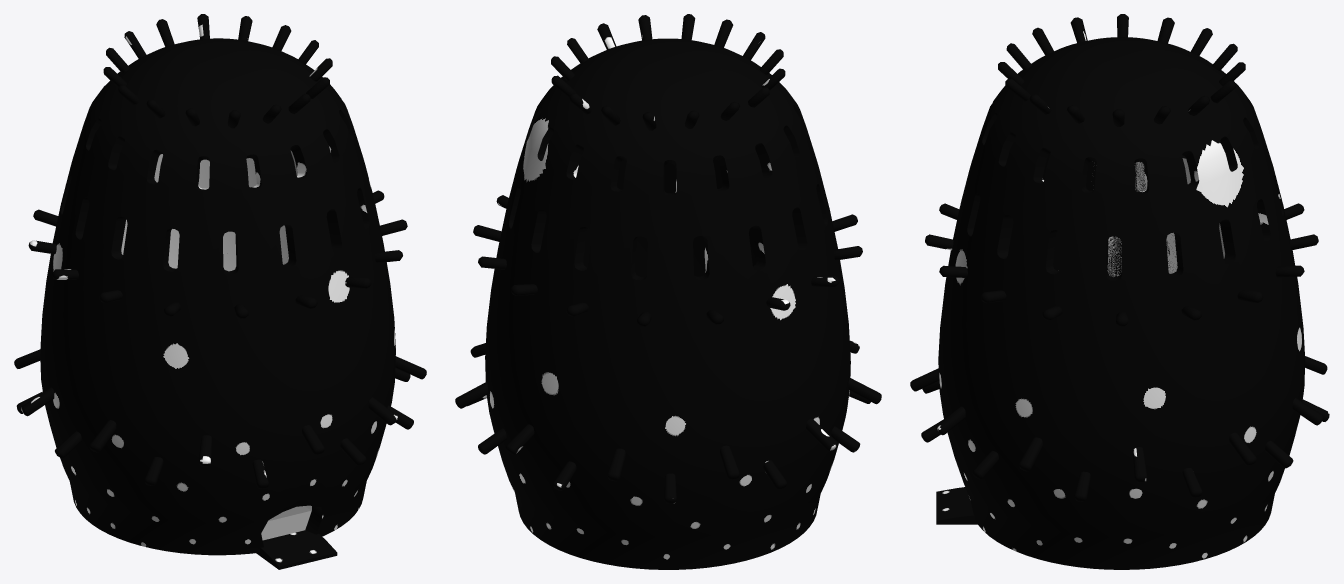
Rendered from BigBulb.fbx.
3 views of the same model, side by side, from view 1: azimuth 30°, elevation 25°; view 2: azimuth 150°, elevation 25°; view 3: azimuth 270°, elevation 25° (orthographic). The views are drawn at different scales.
Parts seen in each view (by area): view 1: BigBulb, BulbRing.001, BigBulbVolume, BulbRing.002, BulbRing, BigBulbEntry, BulbRing.003; view 2: BigBulb, BulbRing.001, BulbRing.002, BulbRing, BulbRing.003; view 3: BigBulb, BulbRing.001, BulbRing, BulbRing.002, BulbRing.003, BigBulbEntry, BigBulbVolume.
Part boxes in pixels (left/top/right/bottom): BigBulb: left=40, top=38, right=395, bottom=555; BulbRing.001: left=103, top=14, right=332, bottom=128; BigBulbVolume: left=121, top=150, right=311, bottom=540; BulbRing.002: left=14, top=349, right=426, bottom=466; BulbRing: left=28, top=190, right=407, bottom=318; BigBulbEntry: left=256, top=530, right=337, bottom=569; BulbRing.003: left=16, top=361, right=413, bottom=488; BigBulb: left=485, top=38, right=850, bottom=569; BulbRing.001: left=551, top=14, right=785, bottom=130; BulbRing.002: left=455, top=340, right=881, bottom=481; BulbRing: left=473, top=195, right=862, bottom=326; BulbRing.003: left=467, top=390, right=870, bottom=503; BigBulb: left=938, top=37, right=1305, bottom=569; BulbRing.001: left=998, top=14, right=1245, bottom=126; BulbRing: left=925, top=203, right=1318, bottom=326; BulbRing.002: left=910, top=356, right=1327, bottom=482; BulbRing.003: left=921, top=380, right=1329, bottom=501; BigBulbEntry: left=936, top=487, right=977, bottom=524; BigBulbVolume: left=1107, top=158, right=1224, bottom=276.
Bounding box in the file's own units: 85.93 × 99.86 × 83.85.
